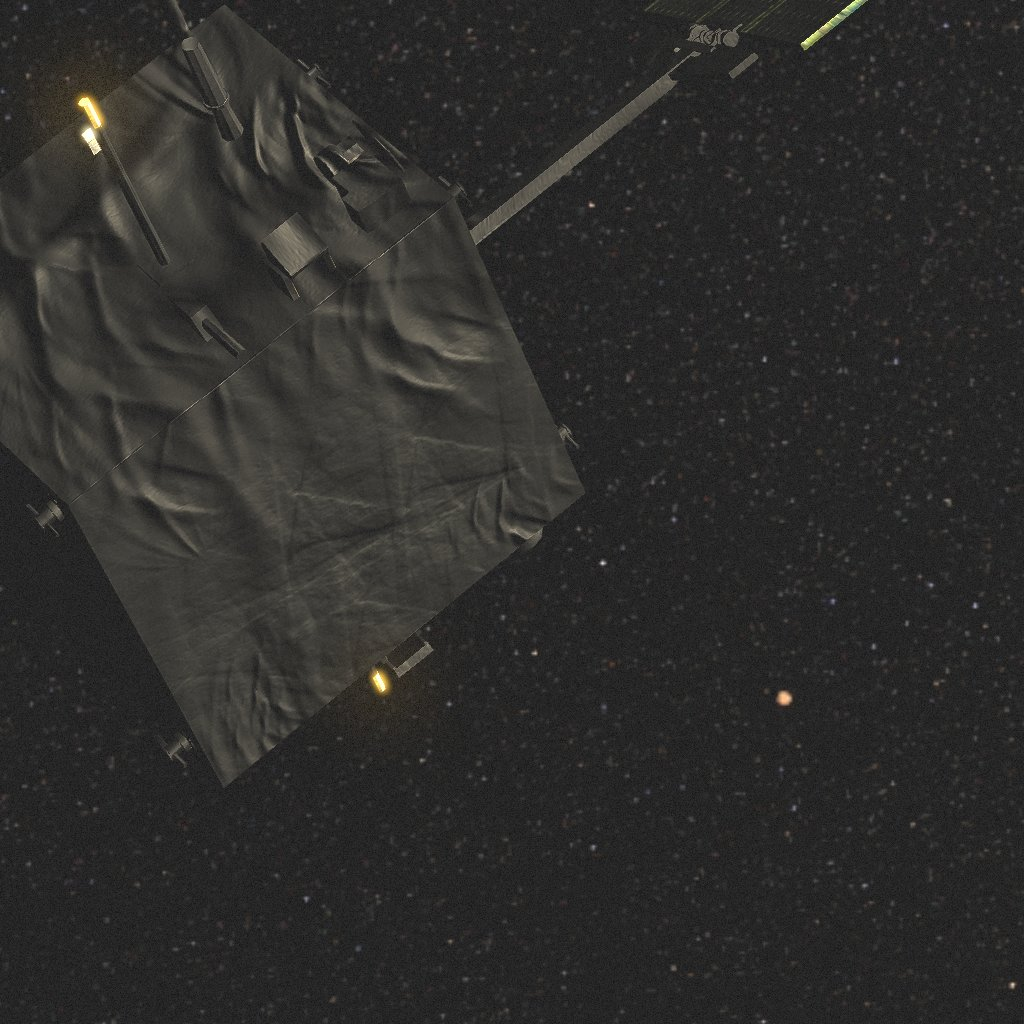smart_1: (0, 0, 868, 788)
